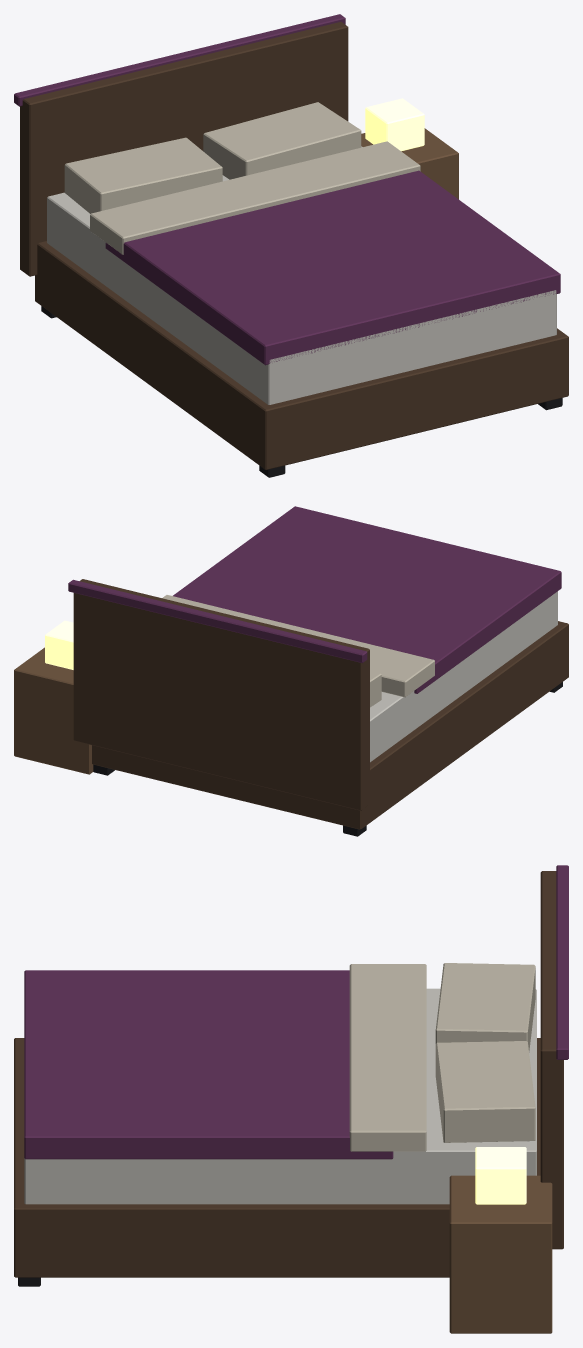
Rendered from PRP_Bed_ND_v001.glb.
3 views of the same model, one above another, from view 1: azimuth 30°, elevation 25°; view 2: azimuth 150°, elevation 25°; view 3: azimuth 270°, elevation 25° (orthographic). The views are drawn at different scales.
Visible parts, largest first — view 1: PRP_Bed_ND_v001; view 2: PRP_Bed_ND_v001; view 3: PRP_Bed_ND_v001.
Part boxes in pixels (x1,y1,x2,y2): PRP_Bed_ND_v001: (14, 14, 568, 477); PRP_Bed_ND_v001: (14, 506, 568, 836); PRP_Bed_ND_v001: (14, 865, 568, 1333).
Size of the model in its own units: 2.05 by 1.06 by 2.16.
